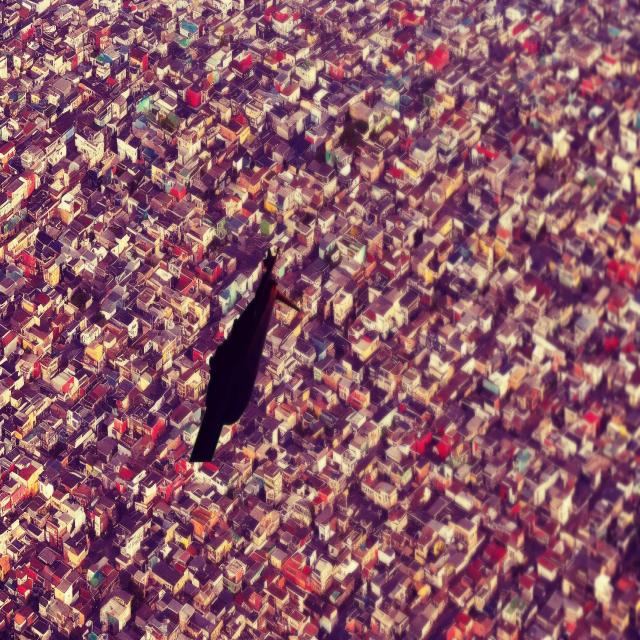airplane: (190, 246, 300, 461)
